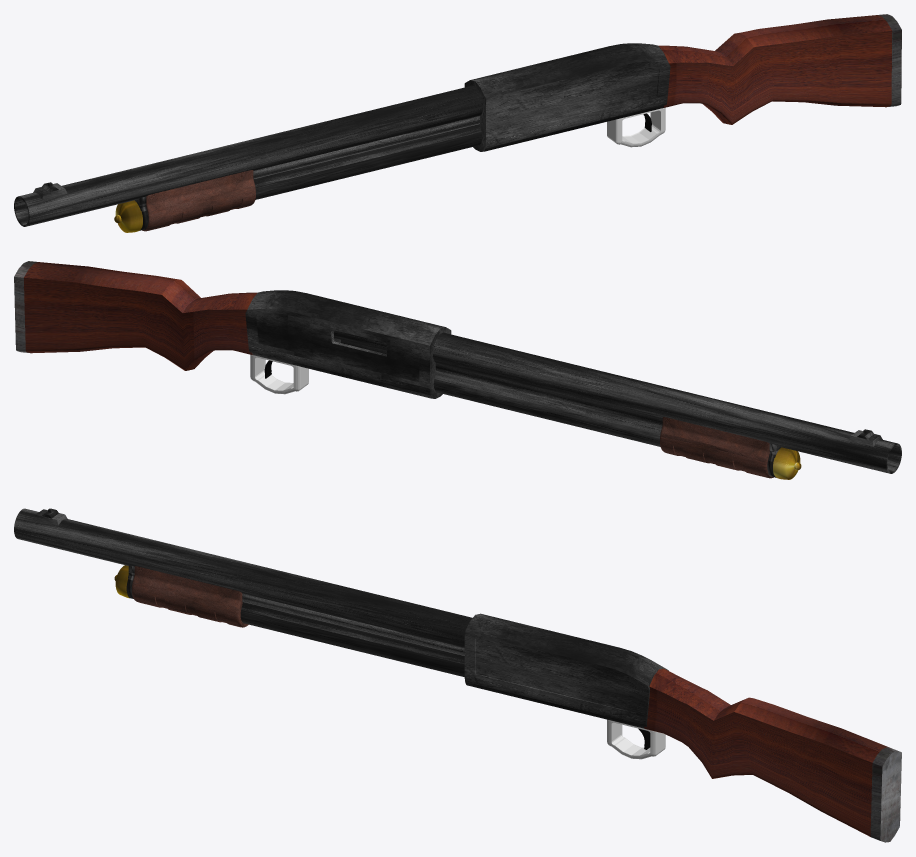
The model's file is shotgun.fbx.
3 renders of one model, top to bottom at view 1: azimuth 30°, elevation 25°; view 2: azimuth 150°, elevation 25°; view 3: azimuth 330°, elevation 25°, orthographic.
Parts seen in each view (by area): view 1: Cube.001, Cylinder, Cube, Cylinder.004, Cylinder.003, Roundcube.004, Cube.003, Sphere; view 2: Cube.001, Cylinder, Cube, Cylinder.004, Cylinder.003, Roundcube.004, Cube.003, Sphere; view 3: Cube.001, Cylinder, Cube, Cylinder.004, Cylinder.003, Cube.003, Roundcube.004.
Boxes of the visible parts, left/top/right/bottom form: Cube.001: left=658, top=15, right=892, bottom=124; Cylinder: left=14, top=85, right=482, bottom=226; Cube: left=464, top=43, right=670, bottom=151; Cylinder.004: left=253, top=116, right=481, bottom=199; Cylinder.003: left=142, top=170, right=255, bottom=231; Roundcube.004: left=607, top=107, right=665, bottom=147; Cube.003: left=878, top=14, right=901, bottom=106; Sphere: left=115, top=200, right=142, bottom=232; Cube.001: left=24, top=262, right=257, bottom=370; Cylinder: left=333, top=331, right=901, bottom=473; Cube: left=245, top=290, right=451, bottom=398; Cylinder.004: left=341, top=339, right=662, bottom=446; Cylinder.003: left=660, top=417, right=773, bottom=478; Roundcube.004: left=250, top=354, right=308, bottom=394; Cube.003: left=14, top=261, right=37, bottom=353; Sphere: left=773, top=447, right=800, bottom=479; Cube.001: left=644, top=668, right=889, bottom=836; Cylinder: left=14, top=508, right=472, bottom=647; Cube: left=464, top=613, right=668, bottom=728; Cylinder.004: left=240, top=593, right=464, bottom=676; Cylinder.003: left=132, top=566, right=248, bottom=627; Cube.003: left=870, top=747, right=901, bottom=842; Roundcube.004: left=607, top=719, right=665, bottom=759.
Bounding box in the file's own units: 5116 × 714 × 215.
7 materials, 5 textured.
